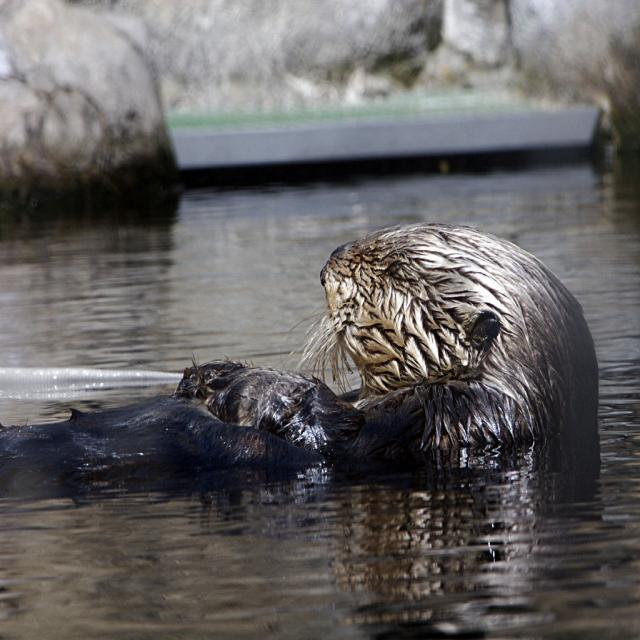otter: (1, 226, 599, 471)
